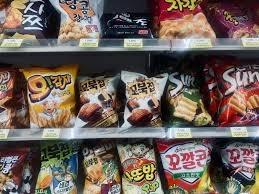snack: (20, 64, 79, 129), (121, 70, 170, 129), (73, 71, 122, 128)
